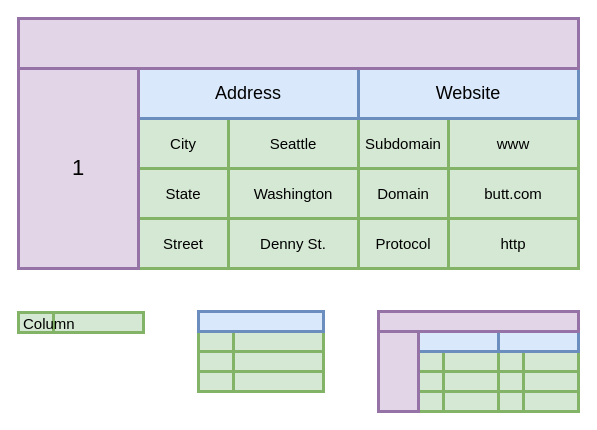
Image size: 597x430. Some labels were removed from this diagram. Each missing label, with the box of its shape:
Column Family: (196, 310, 324, 332)
Companies: (16, 16, 580, 70)
Row Key: (376, 330, 420, 412)
Super Column Family: (376, 310, 580, 332)
